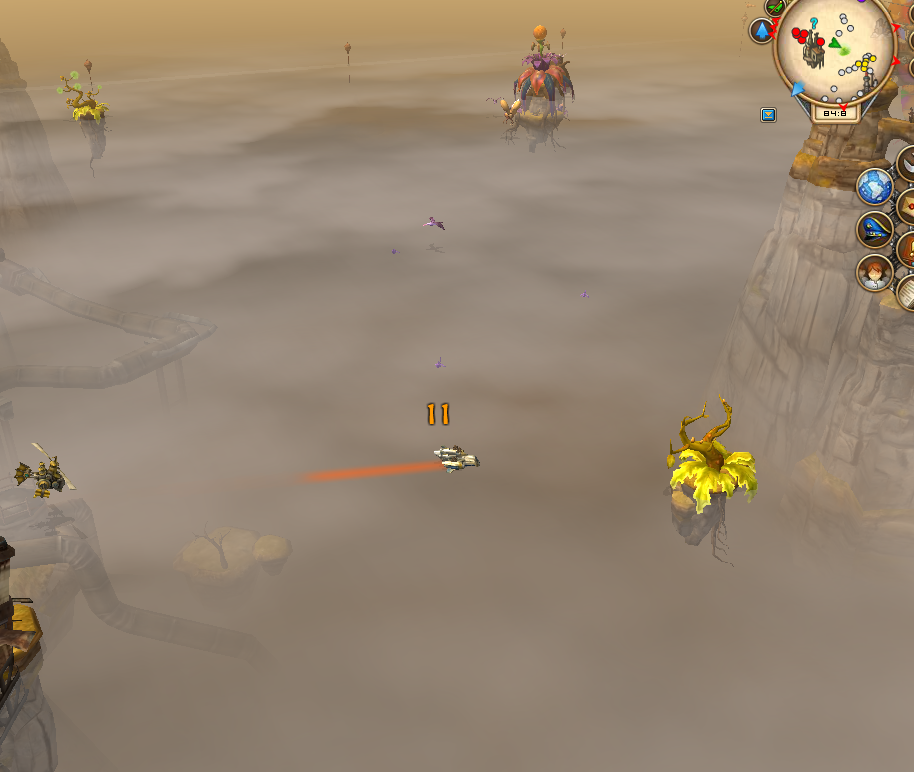dandelion-empty: (662, 392, 764, 556)
dandelion-full: (55, 65, 114, 158)
